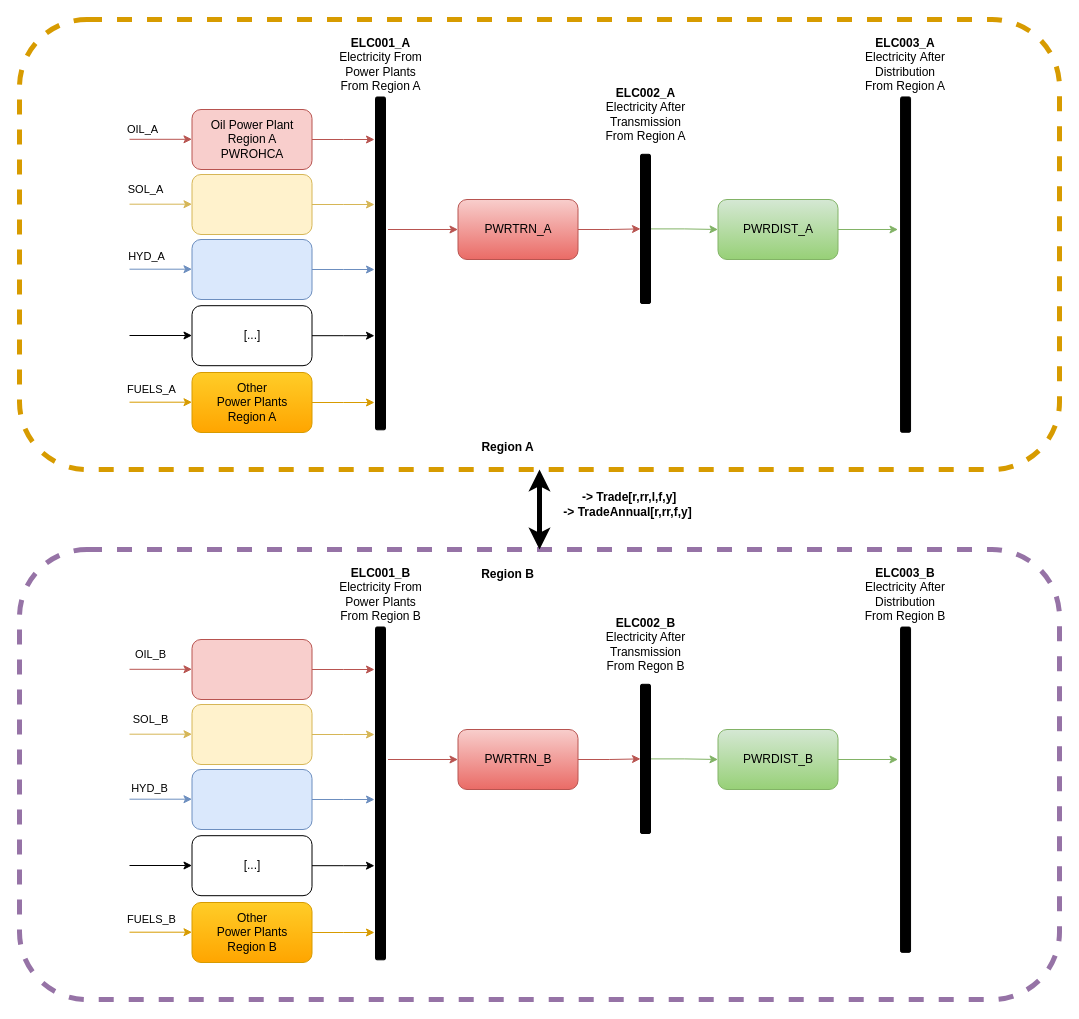
The diagram is 1079 pixels wide and 1019 high, and some of its shapes have lost their labels. Here are the shapes that lost their labels. From the top down, the centre of each, then its label:
(x=251, y=204): Solar Power Plant Region A PWRSOLA
(x=251, y=269): Hydro Power Plant Region A PWRHYDA
(x=251, y=669): Oil Power Plant Region B PWROHCB
(x=251, y=734): Solar Power Plant Region B PWRSOLB
(x=251, y=799): Hydro Power Plant Region B PWRHYDB
